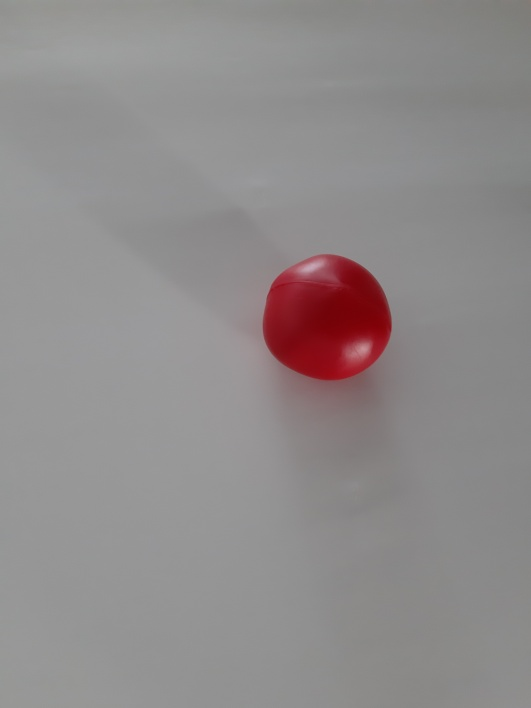tomato: (245, 236, 411, 399)
